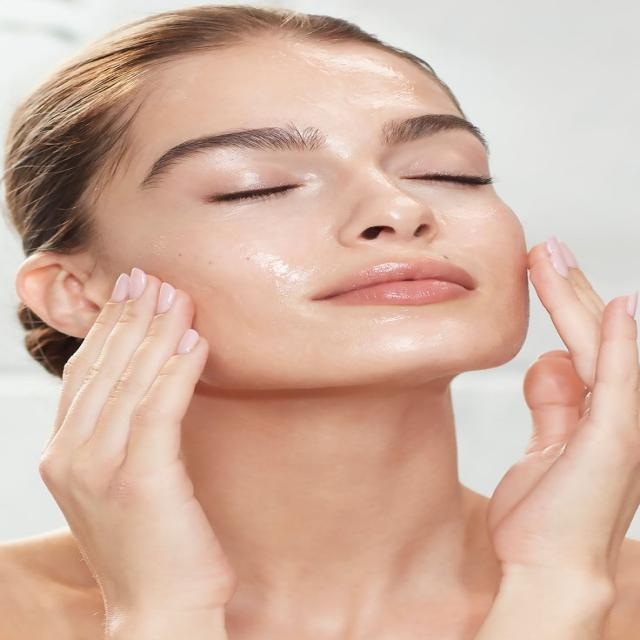Oily-Skin: (131, 81, 255, 123), (351, 344, 455, 392), (235, 246, 301, 320), (290, 83, 380, 129)
